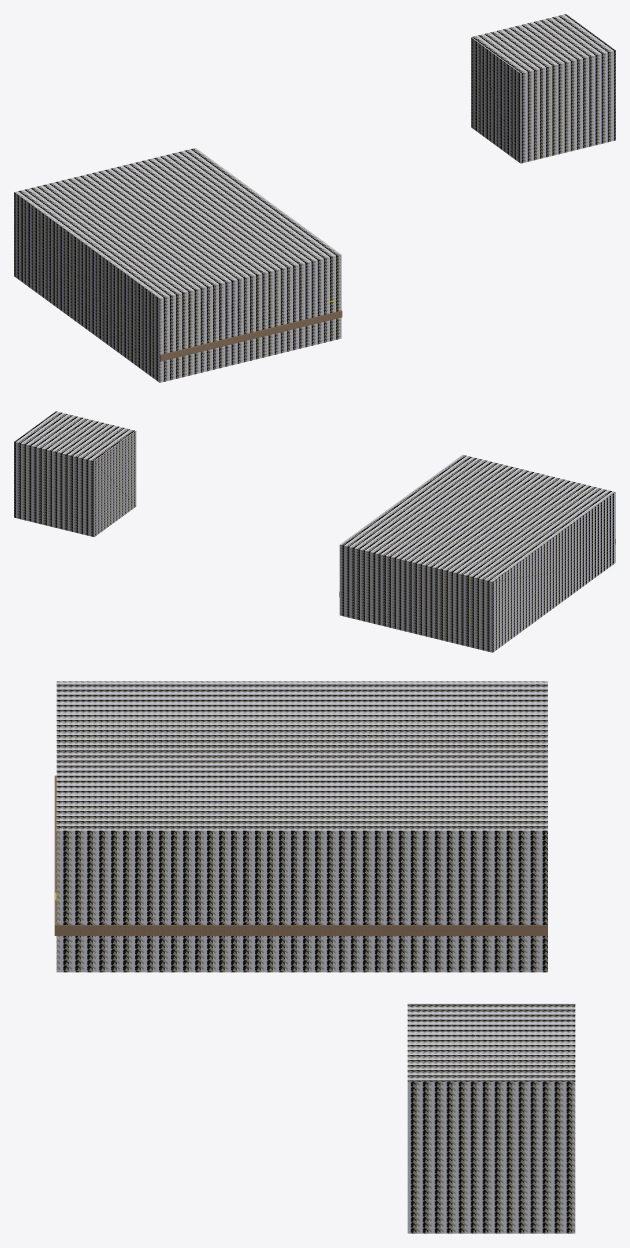
File: Shiks_brush.glb
3 renders of one model, top to bottom at view 1: azimuth 30°, elevation 25°; view 2: azimuth 150°, elevation 25°; view 3: azimuth 270°, elevation 25°, orthographic. The views are drawn at different scales.
Visible parts, largest first — view 1: Shiks; view 2: Shiks; view 3: Shiks.
Part boxes in pixels (x1,y1,x2,y2): Shiks: (14, 14, 615, 382); Shiks: (14, 411, 615, 652); Shiks: (54, 681, 575, 1233).
Size of the model in its own units: 23292 by 4751 by 11120.
Materials: 26 (26 with a texture image).
